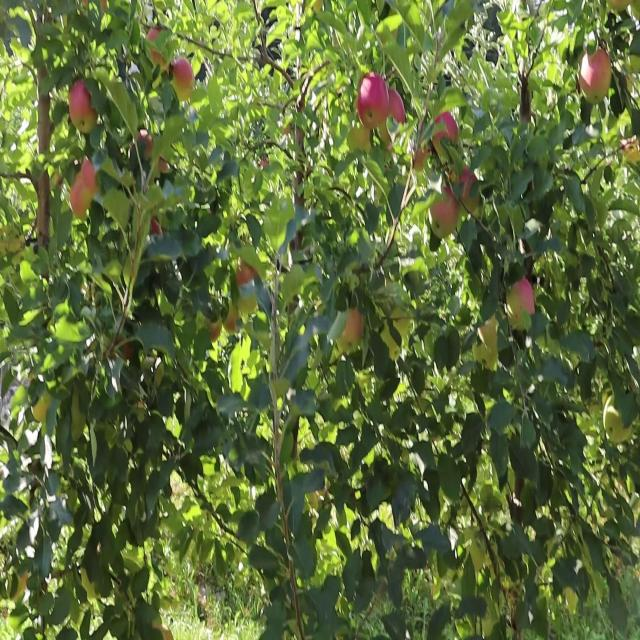apple: (580, 49, 613, 105), (72, 156, 99, 220), (604, 391, 632, 448), (68, 78, 99, 128), (432, 184, 460, 238), (360, 78, 388, 128), (508, 277, 536, 324), (340, 305, 365, 350), (432, 113, 460, 153), (172, 56, 196, 96), (460, 170, 480, 213), (480, 312, 500, 348), (388, 92, 407, 128), (348, 127, 372, 155), (112, 334, 133, 363), (148, 28, 164, 66), (412, 142, 432, 172), (32, 398, 52, 425), (136, 135, 154, 162), (236, 263, 257, 286), (224, 305, 240, 334), (212, 319, 223, 343), (160, 156, 169, 178), (152, 220, 163, 235)
